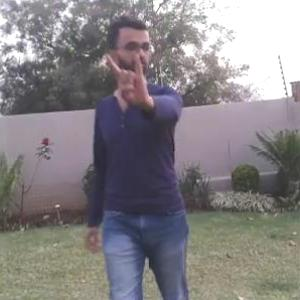takeoff-hand: (104, 45, 154, 113)
